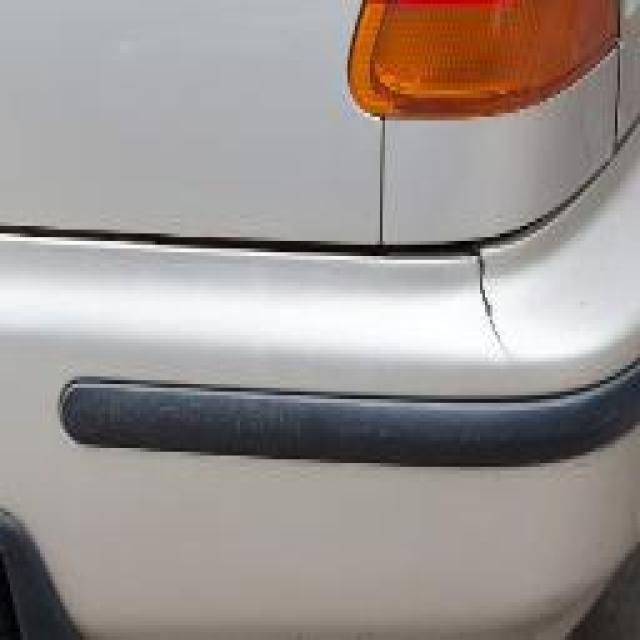Bumper: (460, 245, 515, 384)
